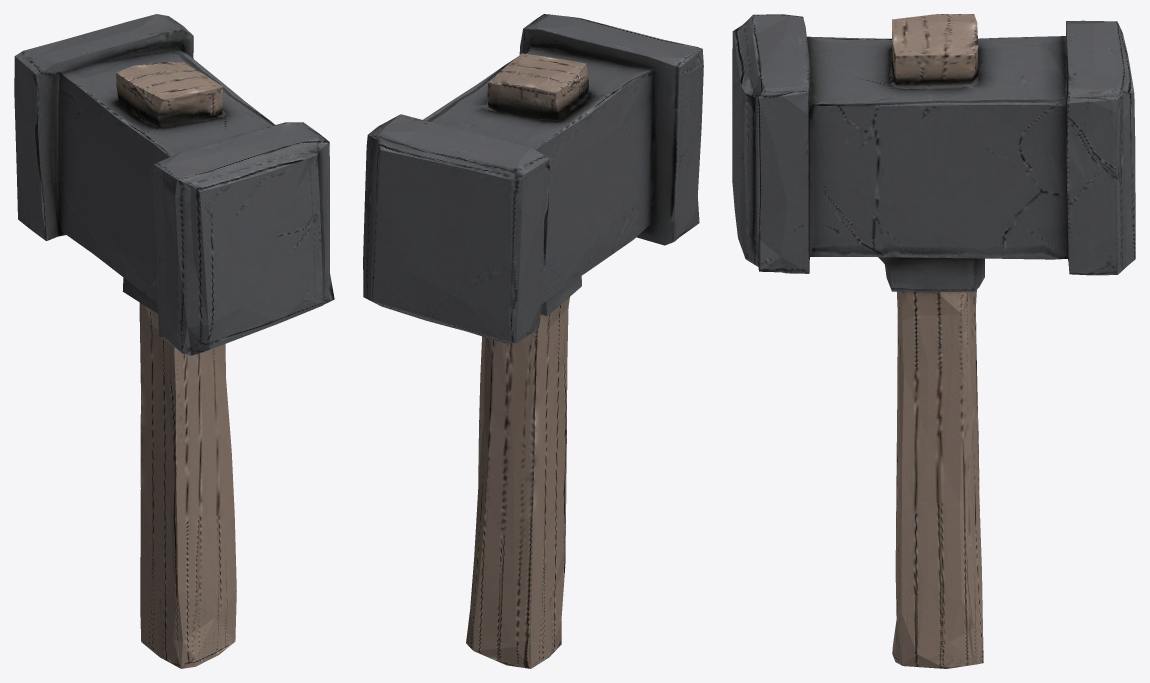
Rendered from hammer+3d+model.glb.
The picture shows the model from 3 angles, left to right: view 1: azimuth 30°, elevation 25°; view 2: azimuth 150°, elevation 25°; view 3: azimuth 270°, elevation 25°; orthographic projection. The views are drawn at different scales.
Parts seen in each view (by area): view 1: tripo_node_bfd936c8-10db-4059-a80d-c22df014d338; view 2: tripo_node_bfd936c8-10db-4059-a80d-c22df014d338; view 3: tripo_node_bfd936c8-10db-4059-a80d-c22df014d338.
Boxes of the visible parts, x1,y1,x2,y2 form: tripo_node_bfd936c8-10db-4059-a80d-c22df014d338: (14, 14, 334, 668); tripo_node_bfd936c8-10db-4059-a80d-c22df014d338: (363, 14, 703, 668); tripo_node_bfd936c8-10db-4059-a80d-c22df014d338: (732, 14, 1135, 668).
Size of the model in its own units: 0.7491 by 2.46 by 1.45.
Materials: 1 (1 with a texture image).
